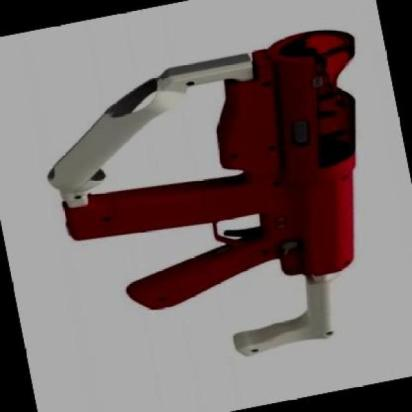Gun: (45, 11, 412, 399)
